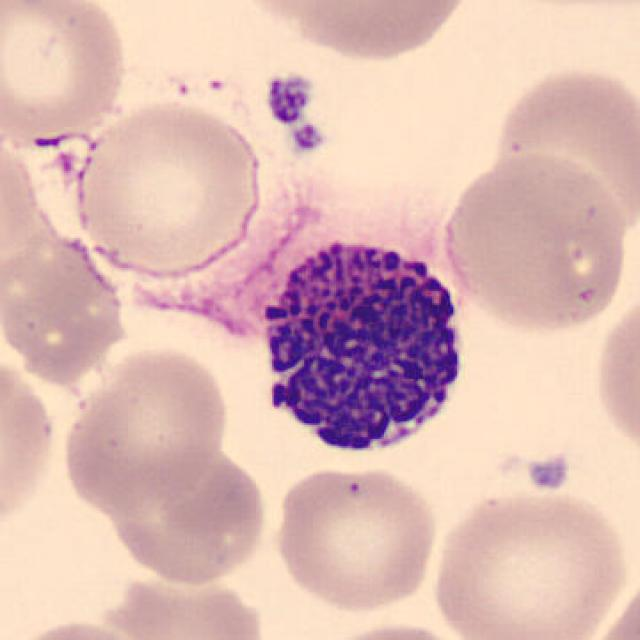Basophil: (242, 215, 478, 473)
Platelets: (261, 70, 315, 127), (524, 451, 570, 494), (288, 120, 327, 157)
RBC: (69, 94, 267, 282), (436, 148, 631, 337), (425, 483, 631, 640), (57, 342, 233, 517), (489, 60, 638, 243), (268, 462, 442, 613), (100, 444, 265, 583), (0, 228, 132, 384), (0, 0, 133, 148), (233, 0, 480, 65), (96, 566, 272, 640), (0, 345, 60, 541), (590, 286, 640, 464), (581, 567, 639, 640), (5, 613, 156, 640), (311, 619, 475, 640), (483, 0, 640, 16)
